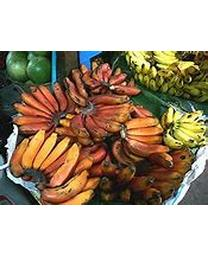banana: (4, 63, 205, 201)
